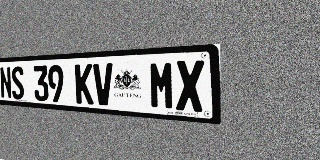3: (33, 65, 49, 101)
9: (48, 65, 64, 103)
K: (75, 64, 94, 105)
M: (149, 61, 175, 110)
N: (0, 67, 12, 99)
S: (11, 66, 25, 100)
V: (93, 63, 114, 106)
X: (176, 60, 205, 112)
